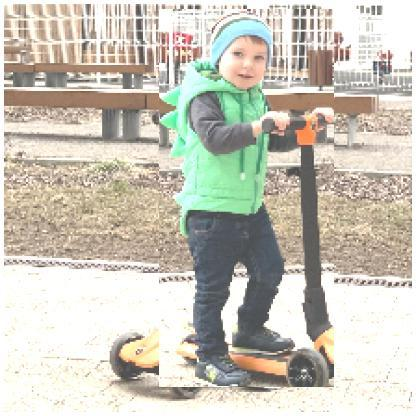child: (160, 10, 336, 389)
